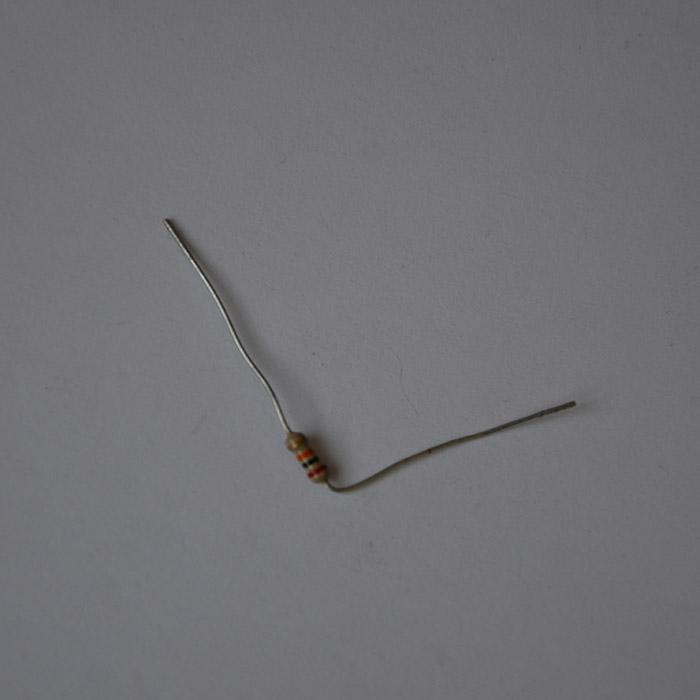resistor: (283, 428, 327, 484)
